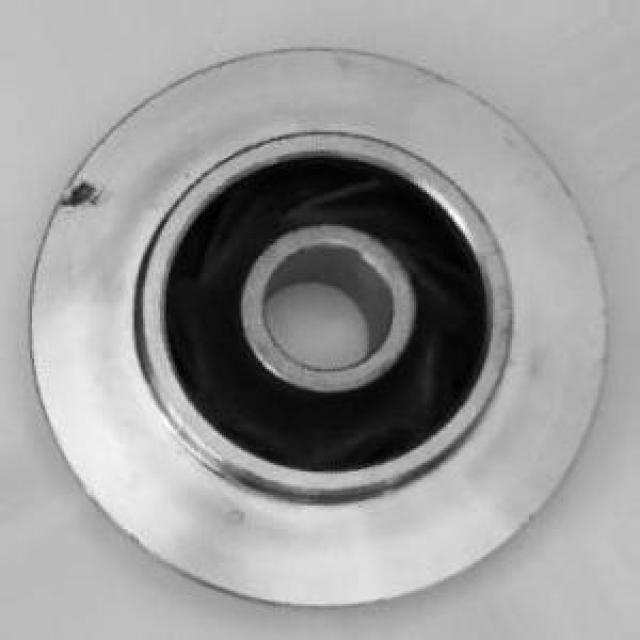Defect: (56, 178, 115, 214)
